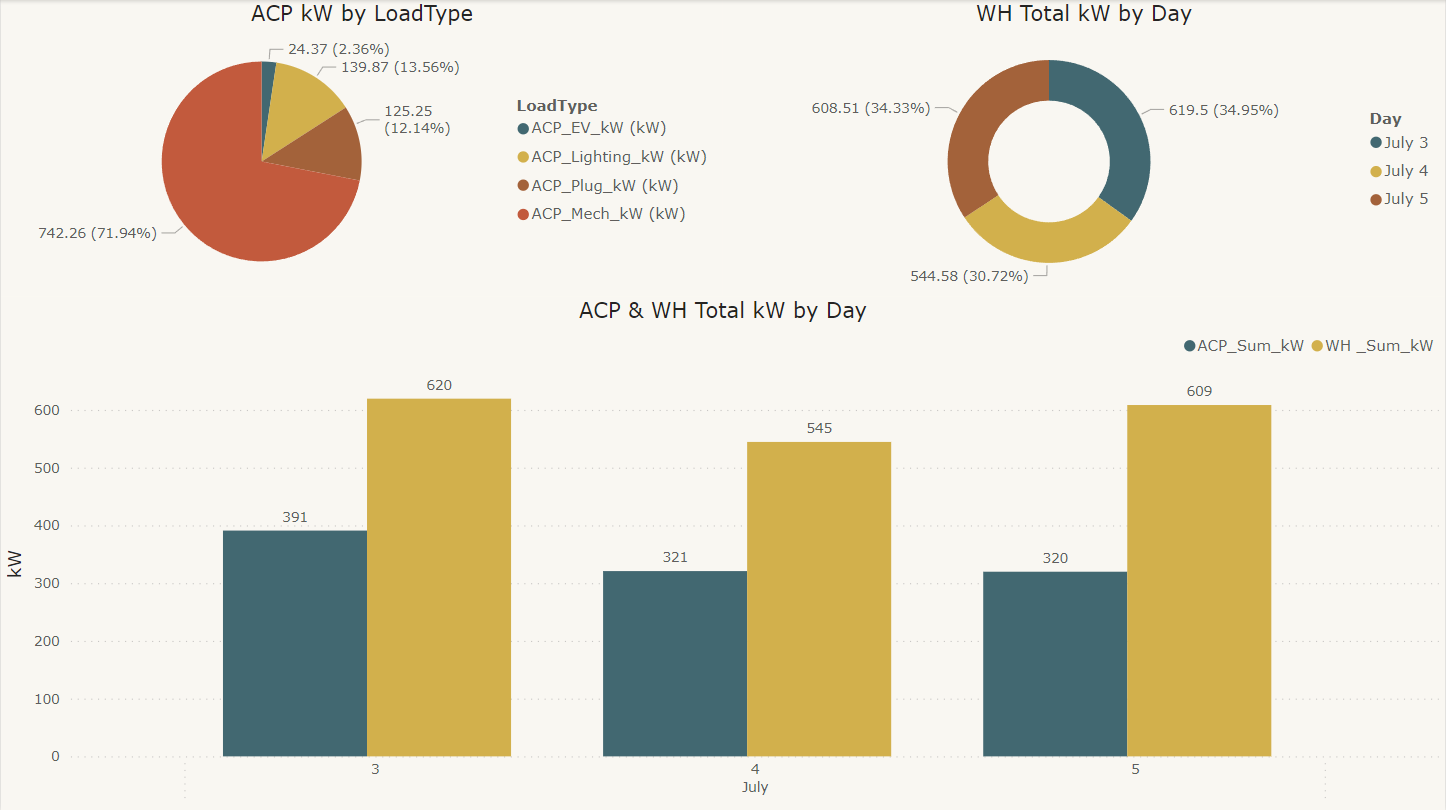

The dashboard page shown, as its layout file describes it:
{"tool":"powerbi","page":{"name":"Dashboard","canvas":[1280,720],"ordinal":0},"visuals":[{"type":"pieChart","title":"ACP kW by LoadType","fields":{"Y":["Sum(ACP_LoadType_kW_Test.ACP_EV_kW (kW))","Sum(ACP_LoadType_kW_Test.ACP_Lighting_kW (kW))","Sum(ACP_LoadType_kW_Test.ACP_Plug_kW (kW))","Sum(ACP_LoadType_kW_Test.ACP_Mech_kW (kW))"]},"box":[0,0,640.2,263.3],"z":0},{"type":"donutChart","title":"WH Total kW by Day","fields":{"Category":["WH_LoadType_kW_Test.Month Day"],"Y":["WH_LoadType_kW_Test.Sum WH Totals"]},"box":[640.2,0,640.2,263.3],"z":1000},{"type":"clusteredColumnChart","title":"ACP & WH Total kW by Day","fields":{"Y":["Sum(WH_LoadType_kW_Test.WH_Total_kW (kW))","Sum(ACP_LoadType_kW_Test.ACP_Total_kW (kW))"],"Category":["WH_LoadType_kW_Test.Month Day"]},"box":[0,263.3,1280.4,456.7],"z":2000}]}

Visuals, with their boxes in screenshot pixels (x1, y1, x2, y2), scaled from the page's 1280x720 canvas onto the 1446x810 screenshot:
"ACP kW by LoadType" pieChart: {"left": 0, "top": 0, "right": 723, "bottom": 296}
"WH Total kW by Day" donutChart: {"left": 723, "top": 0, "right": 1445, "bottom": 296}
"ACP & WH Total kW by Day" clusteredColumnChart: {"left": 0, "top": 296, "right": 1445, "bottom": 809}
